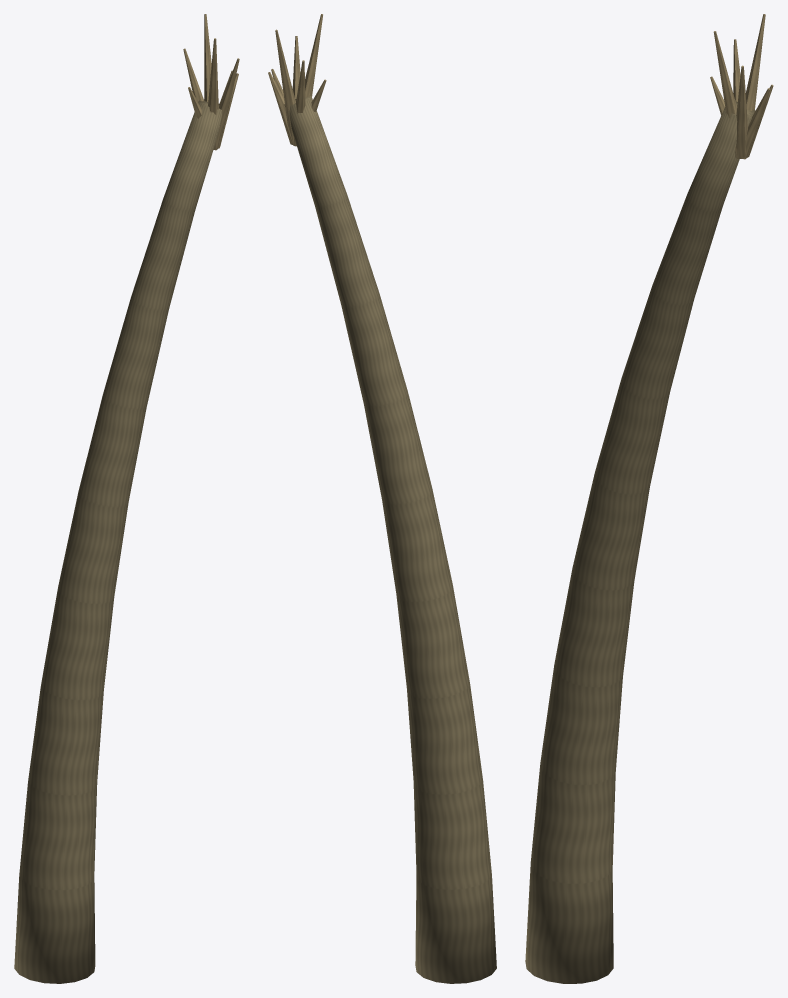
The model's file is dead_swamp_palm_trunk_swamp_and_mangrove_22610.glb.
3 views of the same model, side by side, from view 1: azimuth 30°, elevation 25°; view 2: azimuth 150°, elevation 25°; view 3: azimuth 330°, elevation 25° (orthographic). The views are drawn at different scales.
Parts seen in each view (by area): view 1: dead-swamp-palm; view 2: dead-swamp-palm; view 3: dead-swamp-palm.
Part boxes in pixels (x1,y1,x2,y2): dead-swamp-palm: (14,14,239,983); dead-swamp-palm: (268,14,496,983); dead-swamp-palm: (525,14,773,983).
Size of the model in its own units: 1.11 by 4.39 by 0.3598.
Materials: 2 (2 with a texture image).
